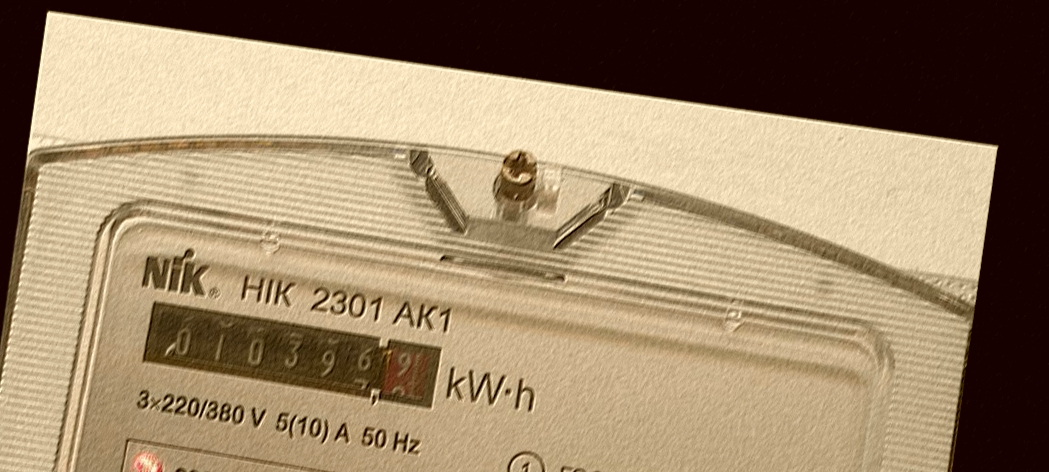0: (244, 332, 270, 368), (171, 322, 196, 357)
1: (212, 327, 229, 362)
3: (283, 335, 305, 371)
6: (354, 342, 379, 373)
9: (316, 344, 340, 380), (391, 348, 416, 381)
screen: (127, 285, 456, 423)
